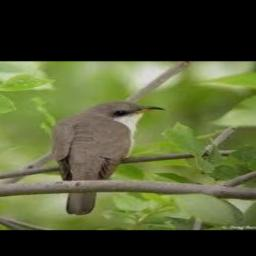Cuckoo: (48, 101, 165, 215)
